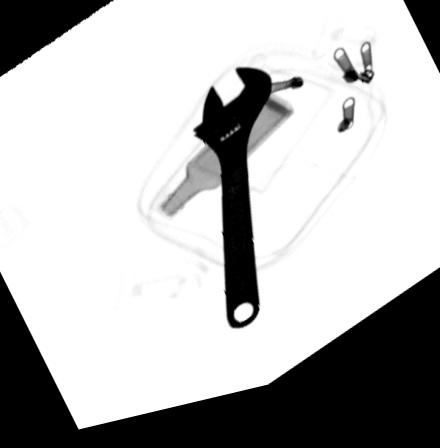Wrench: (191, 76, 276, 341)
